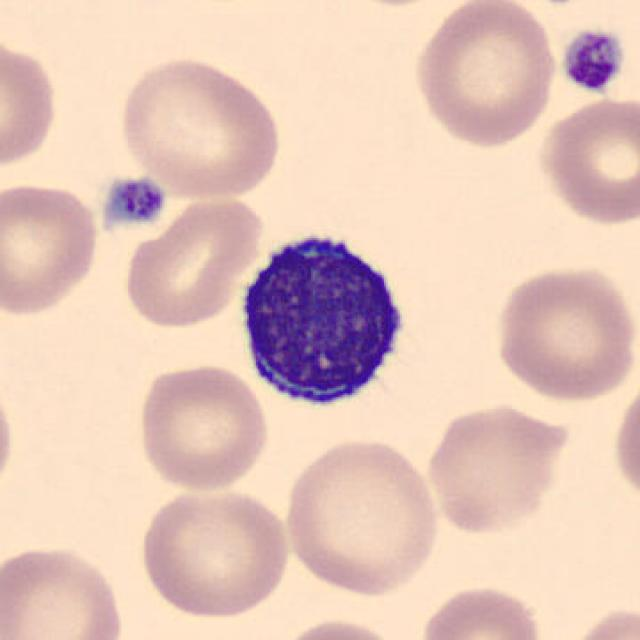Lymphocyte: (230, 217, 420, 418)
Platelets: (556, 25, 630, 97), (98, 173, 170, 231)
RBC: (279, 432, 445, 599), (114, 51, 286, 203), (407, 0, 562, 150), (135, 482, 292, 622), (119, 190, 269, 332), (422, 398, 574, 538), (491, 261, 636, 404), (132, 359, 272, 494), (0, 178, 103, 319), (534, 94, 638, 228), (0, 539, 130, 640), (0, 34, 62, 176), (416, 582, 549, 640), (610, 370, 640, 515), (270, 613, 410, 640), (562, 601, 640, 640), (0, 370, 20, 506)
